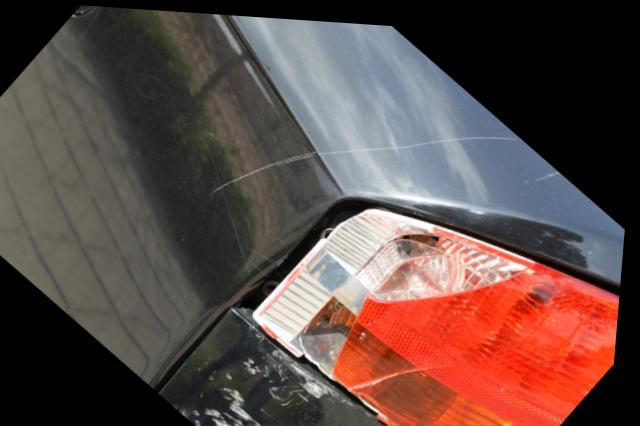lamp broken: (253, 198, 624, 426)
scratch: (208, 126, 528, 192), (181, 345, 336, 426)
